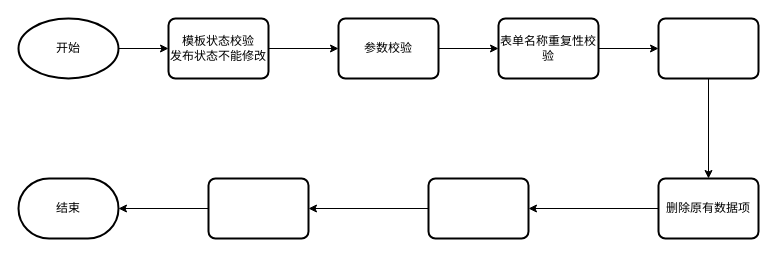
Some shapes in this 776 by 256 pixel diagram are drawn without their labels. Each missing label, with the centre of its shape:
修改模板基本信息: (258,208)
批量新增数据项: (478,208)
校验数据项参数: (708,48)
